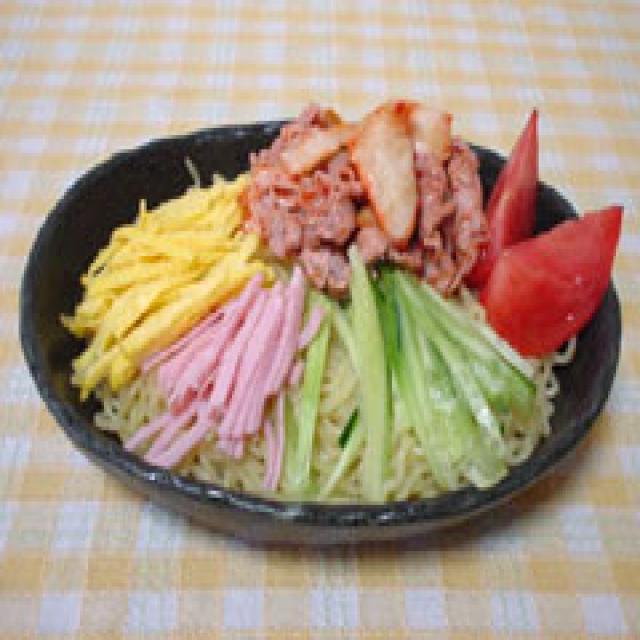面条主食: (16, 96, 640, 555)
